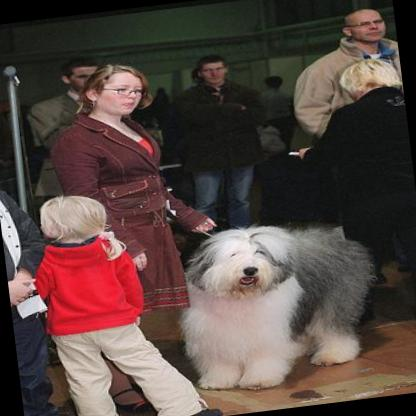Old_English_sheepdog: (171, 214, 379, 398)
